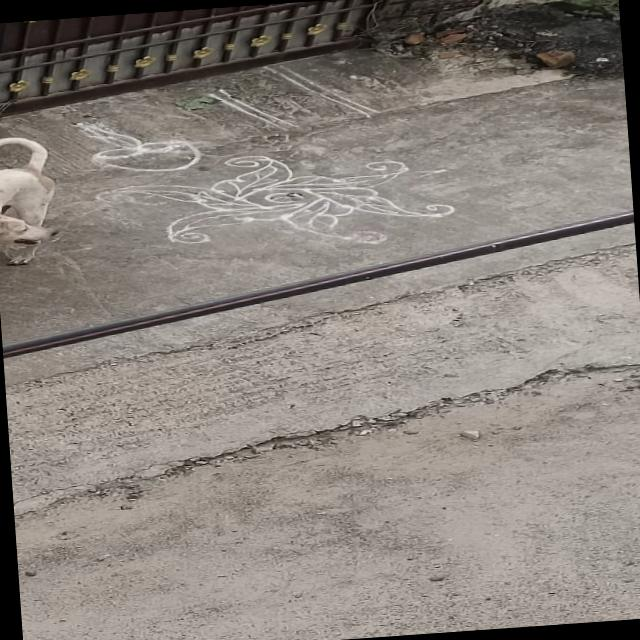rangoli: (58, 73, 562, 306)
